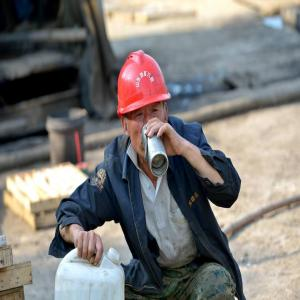red: (117, 53, 173, 162)
